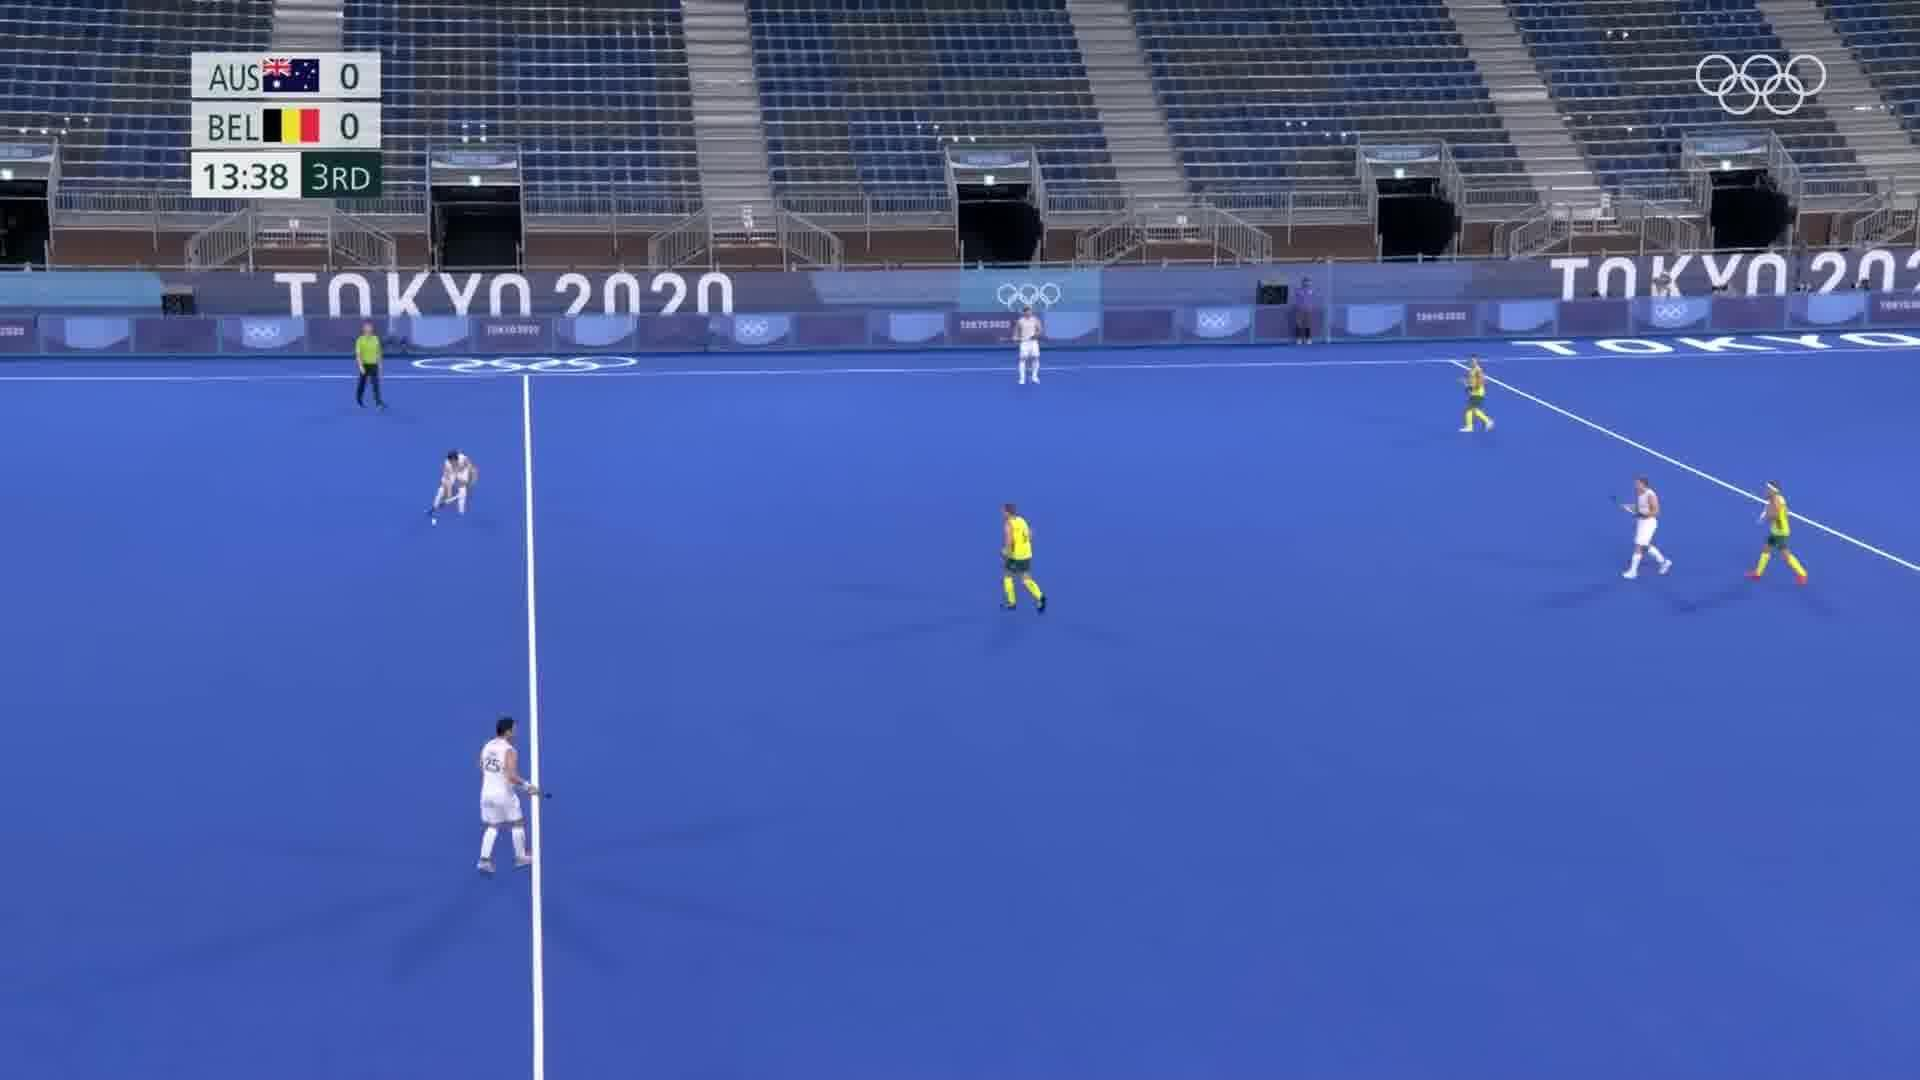ball: (427, 516, 442, 527)
